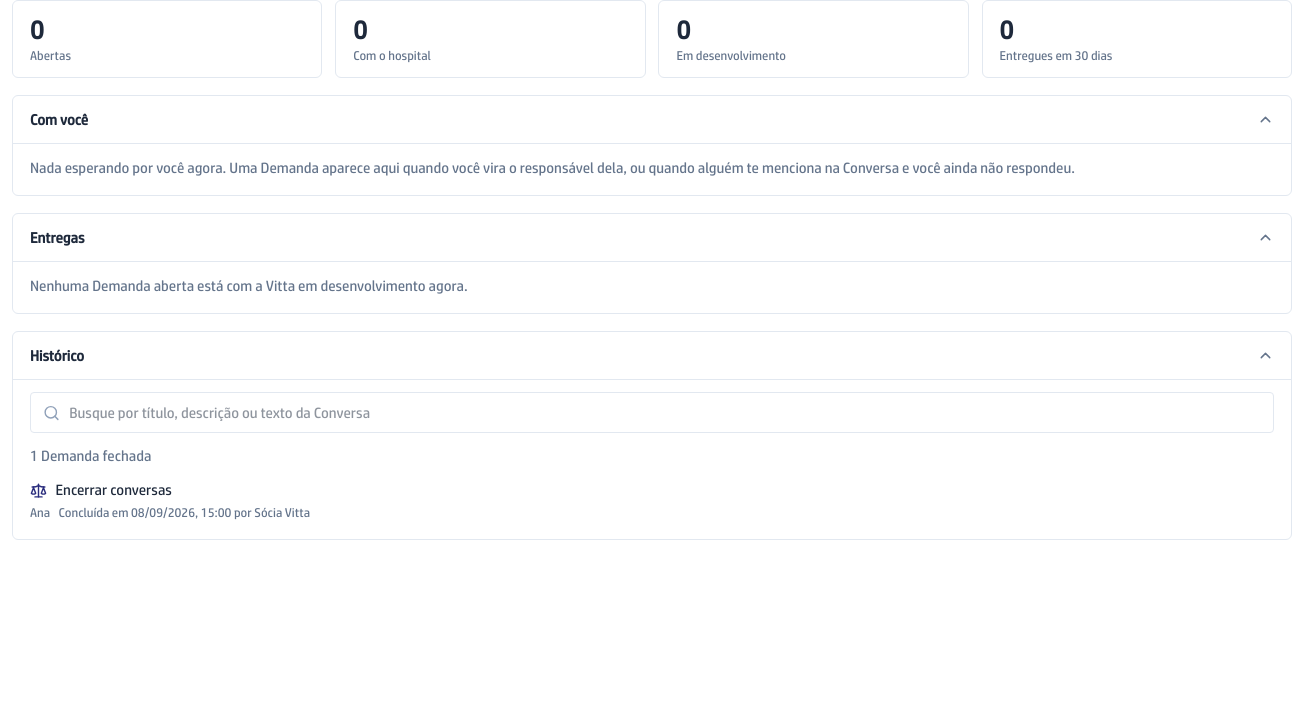
Scenario: Quando não dá para ler › a leitura que falha leva o Painel de ANTES junto, com o contador
Expected: the text "Encerrar conversas" is shown, [56, 480, 172, 501]
Expected: the text "1 Demanda fechada" is shown, [30, 448, 151, 464]
Type "xyz" into the search field named "Buscar no Histórico" at (652, 413), box [30, 392, 1274, 433]
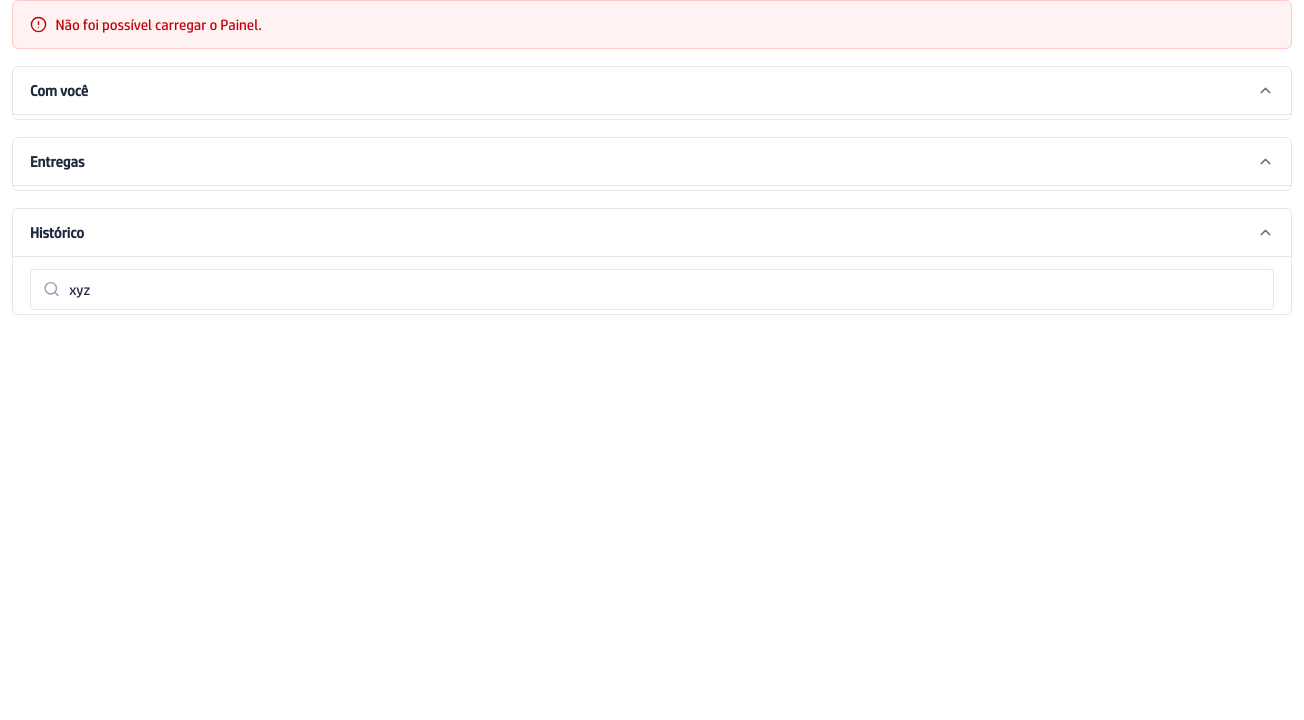
Result: the message reads "Não foi possível carregar o Painel." at [56, 16, 262, 33]
Result: the button "Encerrar conversas" is gone
Result: the text "1 Demanda fechada" is gone
